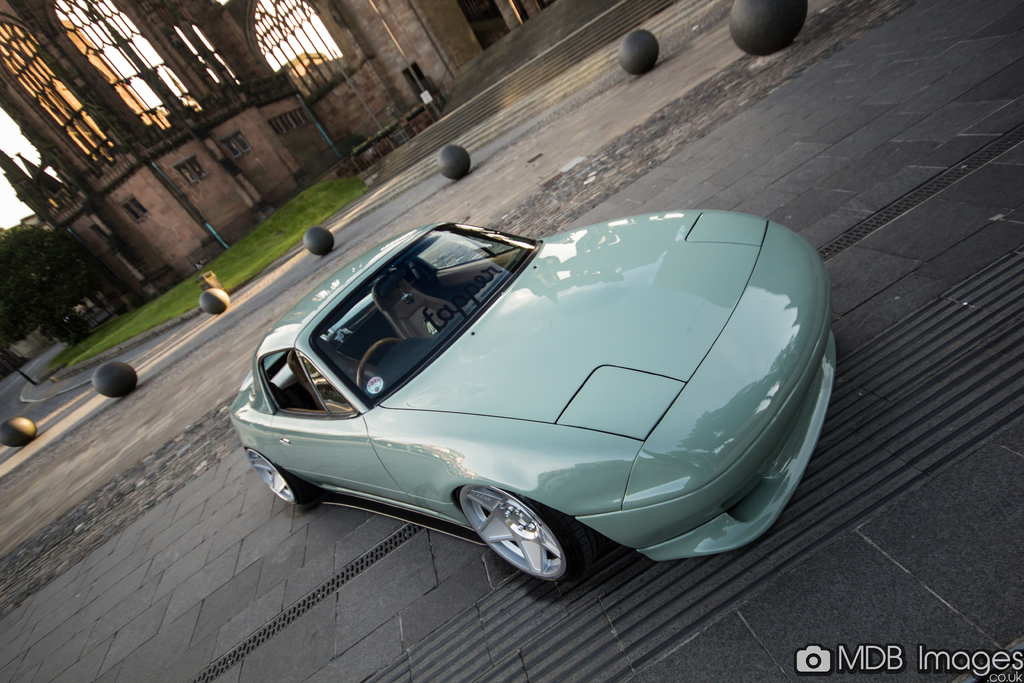Car: (222, 209, 826, 581)
